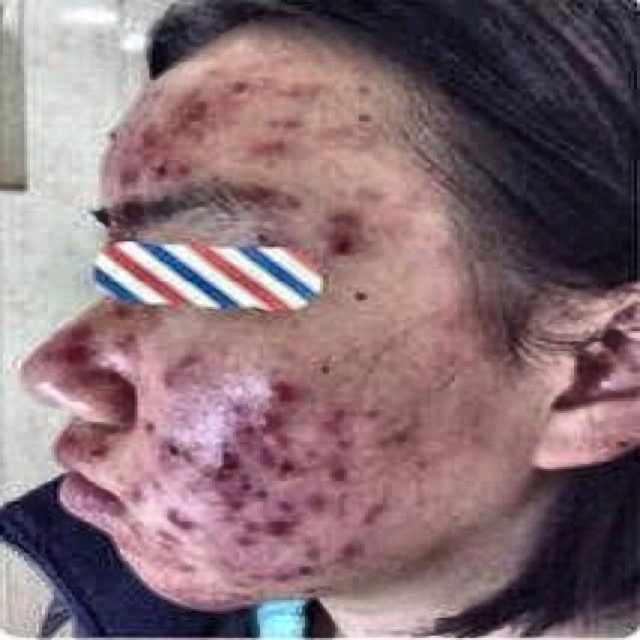nodule: (134, 356, 207, 391), (272, 547, 326, 589), (251, 371, 302, 409), (203, 442, 260, 473), (132, 422, 188, 453), (218, 78, 269, 111), (260, 109, 314, 140), (260, 451, 314, 482), (377, 402, 413, 447), (104, 160, 158, 189), (245, 424, 296, 454), (218, 473, 260, 509), (96, 340, 138, 376), (329, 198, 377, 229), (128, 116, 162, 156), (350, 495, 389, 529), (400, 447, 440, 480), (329, 460, 368, 493), (140, 509, 198, 531), (215, 373, 258, 402), (62, 309, 104, 335), (314, 409, 347, 442), (108, 322, 150, 347), (158, 86, 194, 115), (173, 469, 216, 493), (230, 411, 287, 429), (60, 340, 93, 371), (269, 78, 311, 102), (162, 153, 198, 180), (104, 536, 138, 564), (326, 540, 368, 562), (326, 231, 359, 258), (314, 153, 347, 180), (194, 493, 224, 522), (299, 484, 326, 516), (72, 440, 114, 460), (248, 176, 281, 200), (48, 427, 84, 449), (168, 551, 195, 580), (266, 489, 296, 515), (227, 182, 260, 205), (146, 526, 182, 546), (204, 394, 236, 416), (125, 306, 162, 324), (275, 186, 308, 206), (116, 482, 146, 504), (177, 591, 210, 611), (233, 502, 257, 529), (248, 136, 275, 160), (245, 564, 278, 582), (138, 471, 164, 493), (164, 402, 192, 422), (293, 204, 320, 224), (216, 556, 246, 574), (206, 598, 236, 616), (110, 516, 140, 534), (105, 469, 132, 487), (228, 531, 252, 551), (227, 584, 254, 600), (224, 573, 248, 591), (203, 578, 224, 596), (341, 413, 356, 427)
